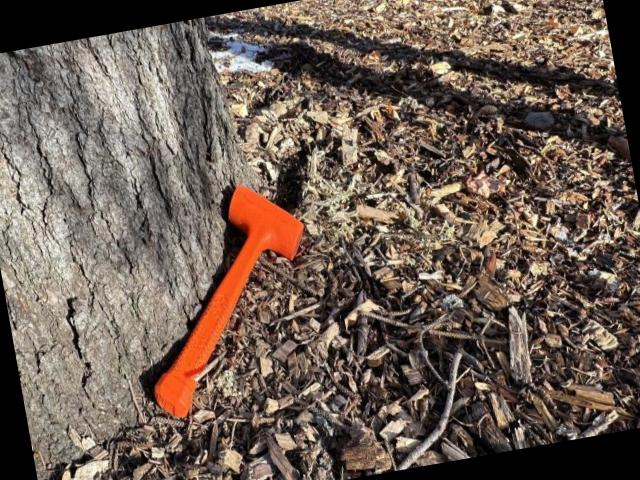hammer: (119, 172, 330, 421)
